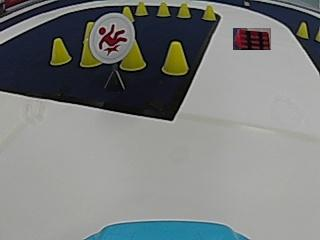cone: (161, 39, 188, 76), (119, 43, 147, 72), (49, 37, 71, 66), (79, 44, 99, 68), (295, 21, 309, 39), (177, 2, 191, 18), (202, 4, 215, 21), (157, 1, 170, 17), (135, 0, 148, 16), (122, 6, 133, 22)
tumble: (96, 18, 130, 56)
